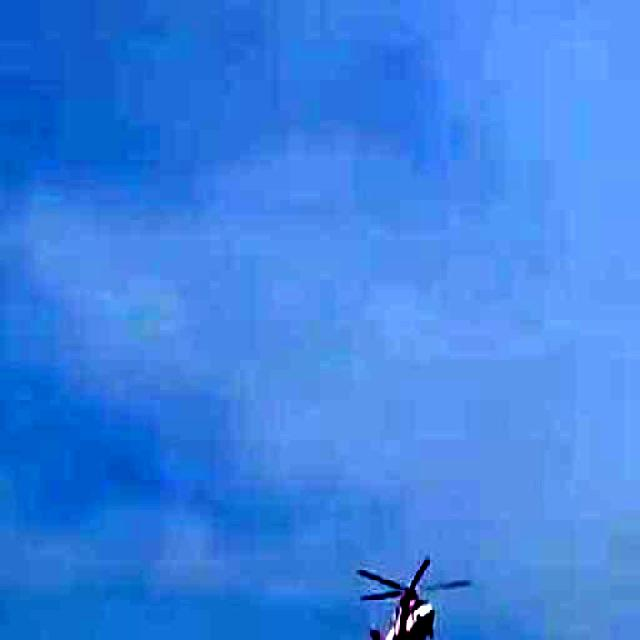drone: (344, 551, 464, 640)
